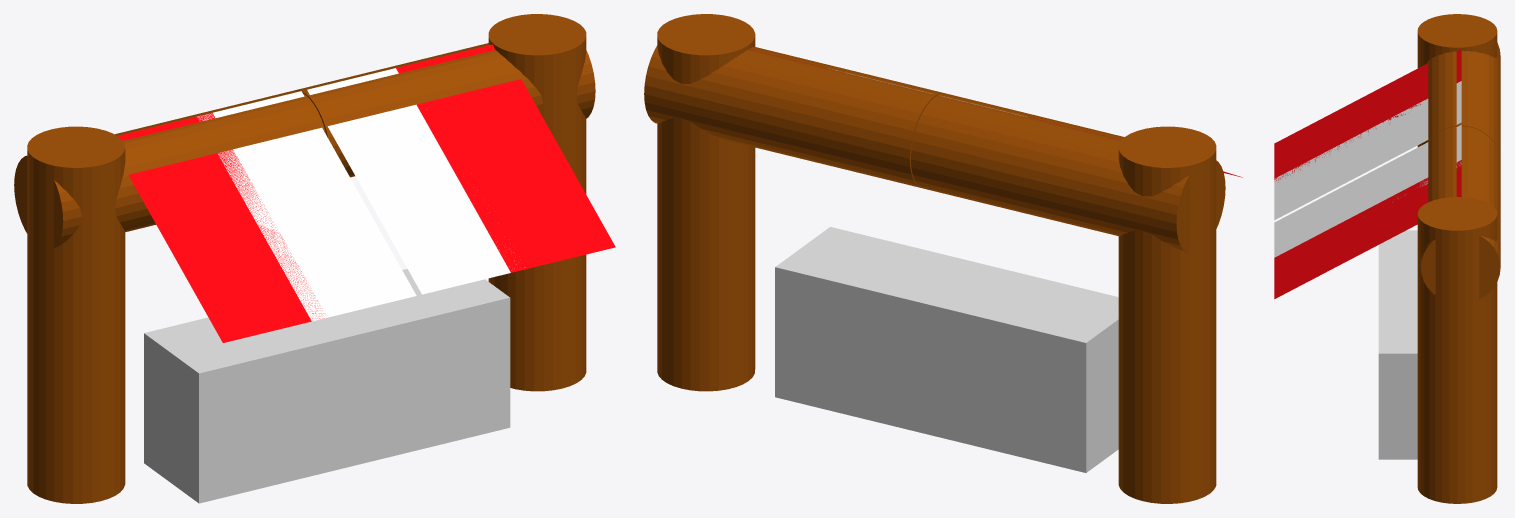
The model's file is Trader.fbx.
3 renders of one model, left to right at view 1: azimuth 30°, elevation 25°; view 2: azimuth 150°, elevation 25°; view 3: azimuth 270°, elevation 25°, orthographic. The views are drawn at different scales.
Parts seen in each view (by area): view 1: Cylinder, Cube.001; view 2: Cylinder, Cube.001; view 3: Cylinder, Cube.001.
Boxes of the visible parts, left/top/right/bottom form: Cylinder: left=14, top=14, right=615, bottom=503; Cube.001: left=144, top=269, right=510, bottom=503; Cylinder: left=644, top=14, right=1242, bottom=503; Cube.001: left=775, top=227, right=1118, bottom=472; Cylinder: left=1274, top=14, right=1500, bottom=503; Cube.001: left=1378, top=230, right=1417, bottom=459.
Size of the model in its own units: 287 by 170 by 127.
